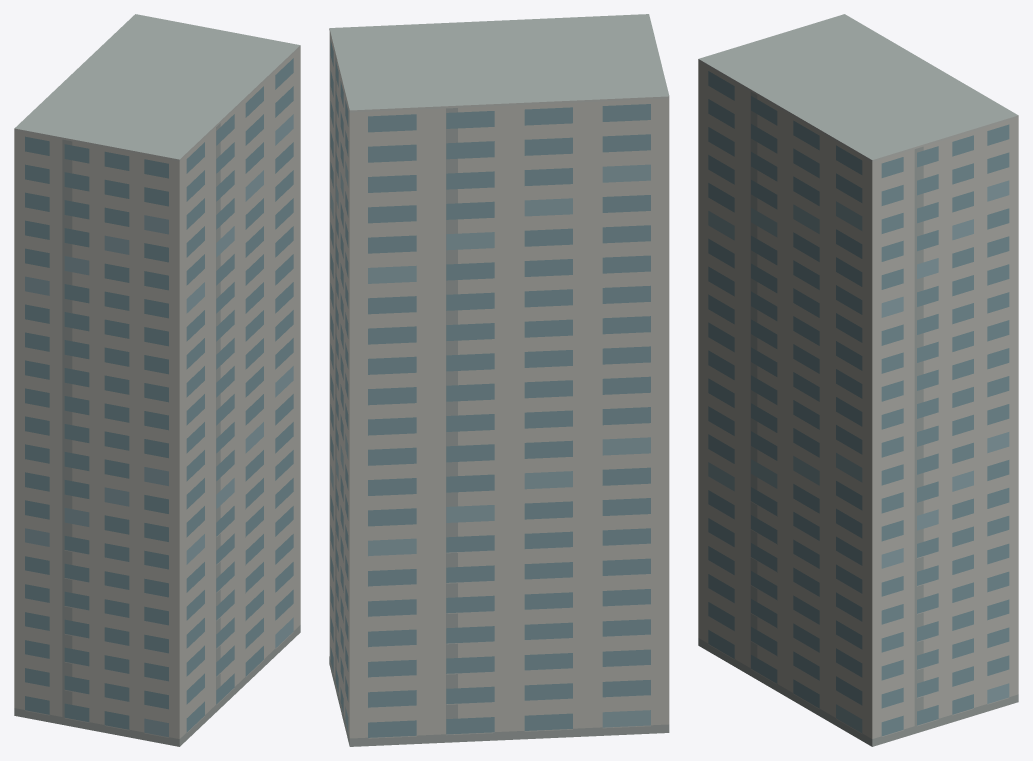
Rendered from residential-0def9567-8ee7-4c49-b507-40668a622884.glb.
The picture shows the model from 3 angles, left to right: view 1: azimuth 30°, elevation 25°; view 2: azimuth 150°, elevation 25°; view 3: azimuth 270°, elevation 25°; orthographic projection. The views are drawn at different scales.
Parts seen in each view (by area): view 1: residential-0def9567-8ee7-4c49-b507-40668a622884.tmp; view 2: residential-0def9567-8ee7-4c49-b507-40668a622884.tmp; view 3: residential-0def9567-8ee7-4c49-b507-40668a622884.tmp.
Boxes of the visible parts, box(x1,y1,x2,y2) form: residential-0def9567-8ee7-4c49-b507-40668a622884.tmp: box(14, 14, 300, 746); residential-0def9567-8ee7-4c49-b507-40668a622884.tmp: box(329, 14, 669, 746); residential-0def9567-8ee7-4c49-b507-40668a622884.tmp: box(698, 14, 1018, 746).
Size of the model in its own units: 37.42 by 70 by 34.63.
